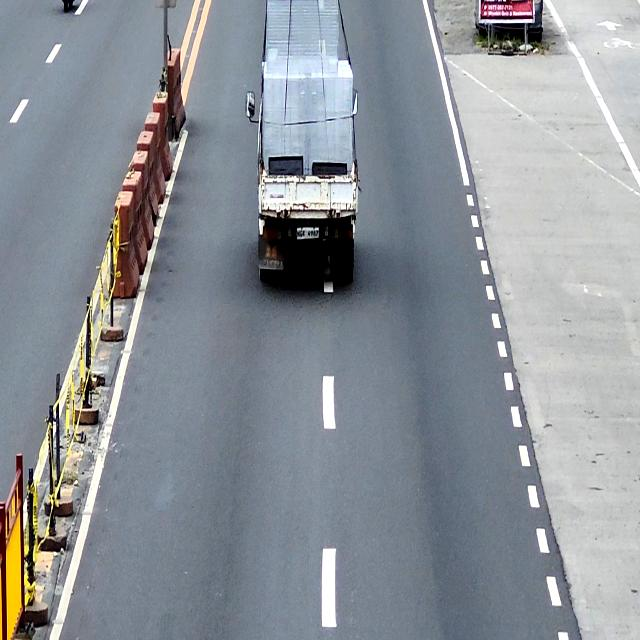License-Plate: (296, 226, 320, 240)
Truck: (245, 58, 358, 286)
